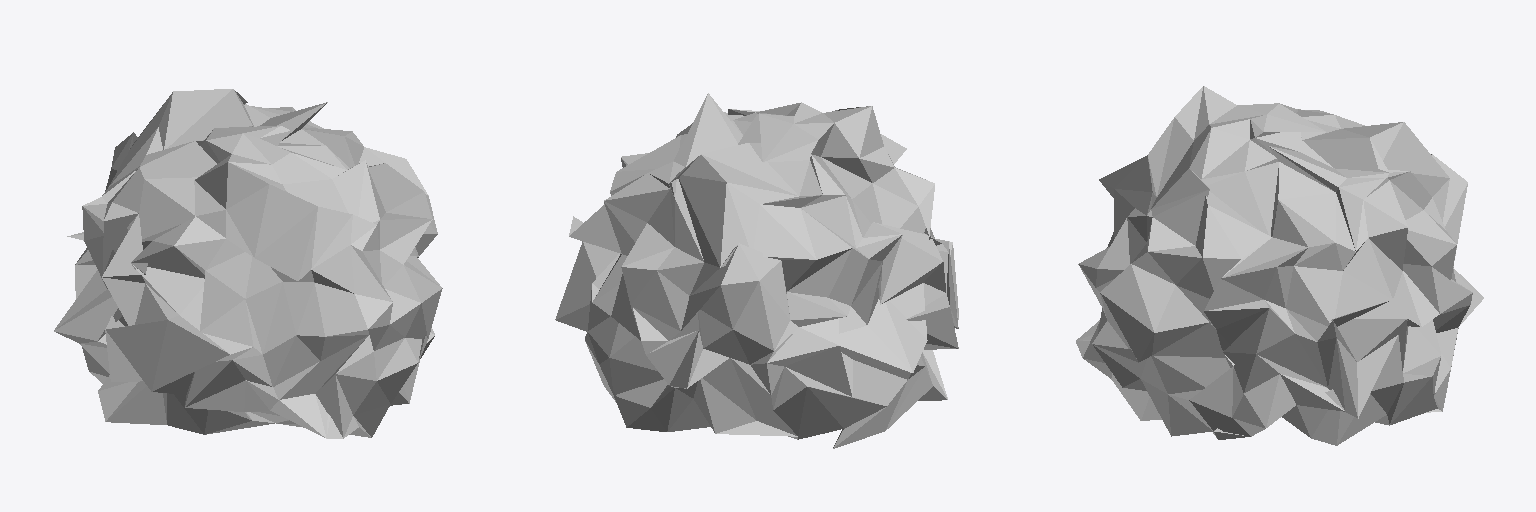
File: bush.obj
3 views of the same model, side by side, from view 1: azimuth 30°, elevation 25°; view 2: azimuth 150°, elevation 25°; view 3: azimuth 270°, elevation 25° (orthographic).
Visible parts, largest first — view 1: default; view 2: default; view 3: default.
Part boxes in pixels (x1,y1,x2,y2): default: (54,89,442,438); default: (555,93,958,448); default: (1076,86,1483,445).
Bounding box in the file's own units: 0.5844 × 0.4578 × 0.5952.